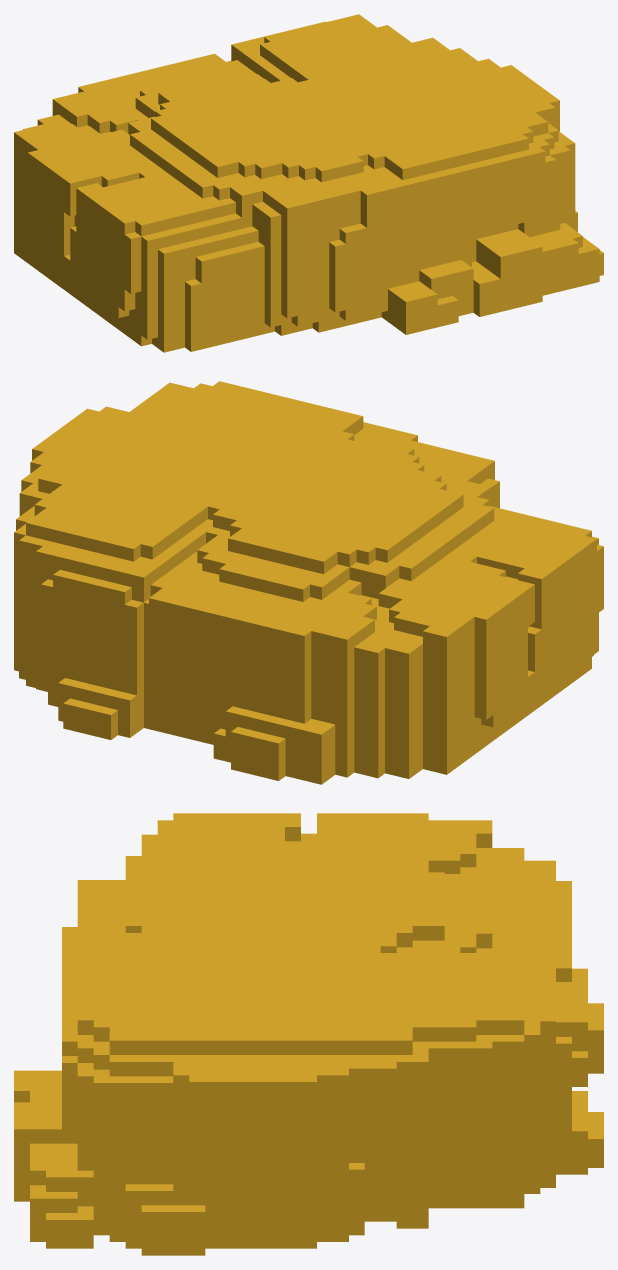
Rendered from RockHuge_mesh.fbx.
3 views of the same model, one above another, from view 1: azimuth 30°, elevation 25°; view 2: azimuth 150°, elevation 25°; view 3: azimuth 270°, elevation 25° (orthographic). The views are drawn at different scales.
Visible parts, largest first — view 1: ObjObject; view 2: ObjObject; view 3: ObjObject.
Boxes of the visible parts, box(x1,y1,x2,y2) form: ObjObject: box(14, 14, 603, 352); ObjObject: box(14, 381, 603, 784); ObjObject: box(14, 813, 603, 1255).
Size of what is drawn, in the model's own units: 420 by 130 by 370.
